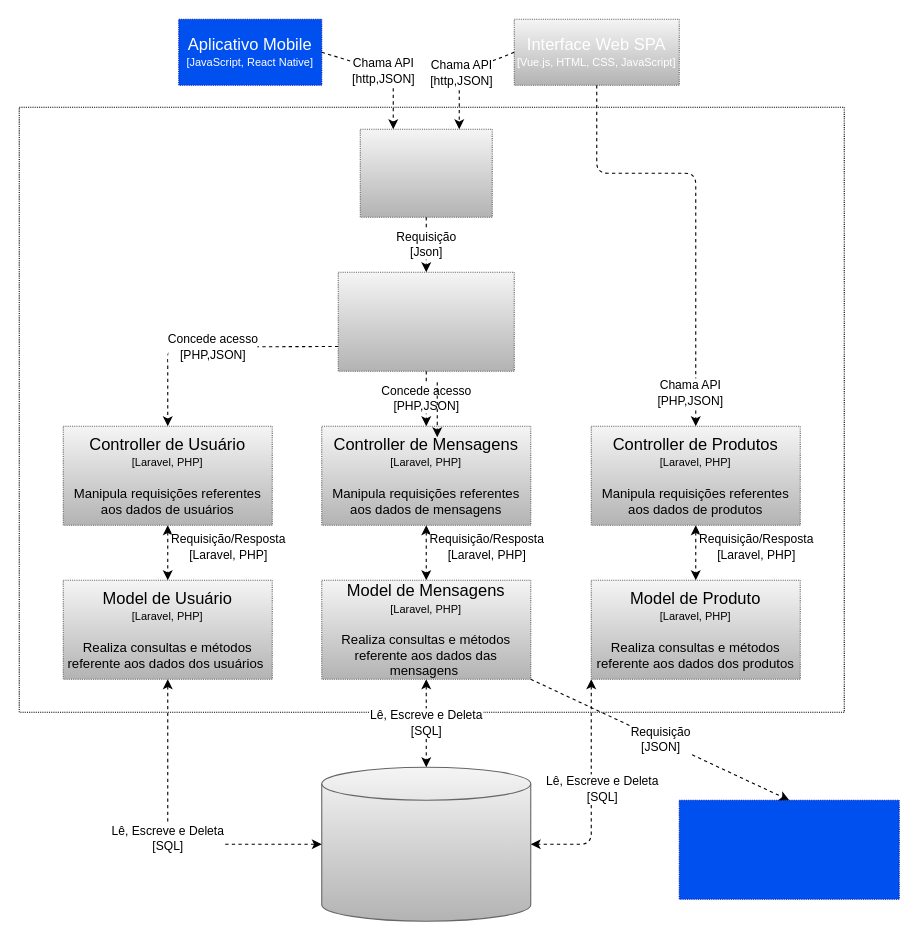
This 919x941 diagram has some shape labels left out. Here are the shapes that lost their labels. From the top down, the centre of each, then its label:
point 425,172: Token Service [Laravel, JWT] Validação em duas pontas para acesso
point 425,321: Autenticador do Token [Laravel, JWT] Permitir o acesso por login
point 426,843: Banco de Dados [MySql]
point 788,849: Serviço de Chat [JavaScript, Node.js]
